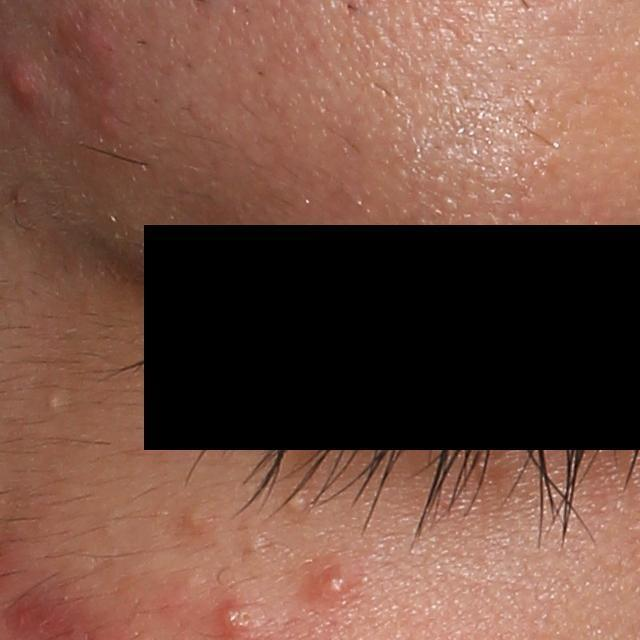comedo: (277, 486, 310, 520), (240, 534, 267, 561), (37, 393, 62, 414)
papule: (3, 66, 43, 110), (182, 508, 214, 536)
